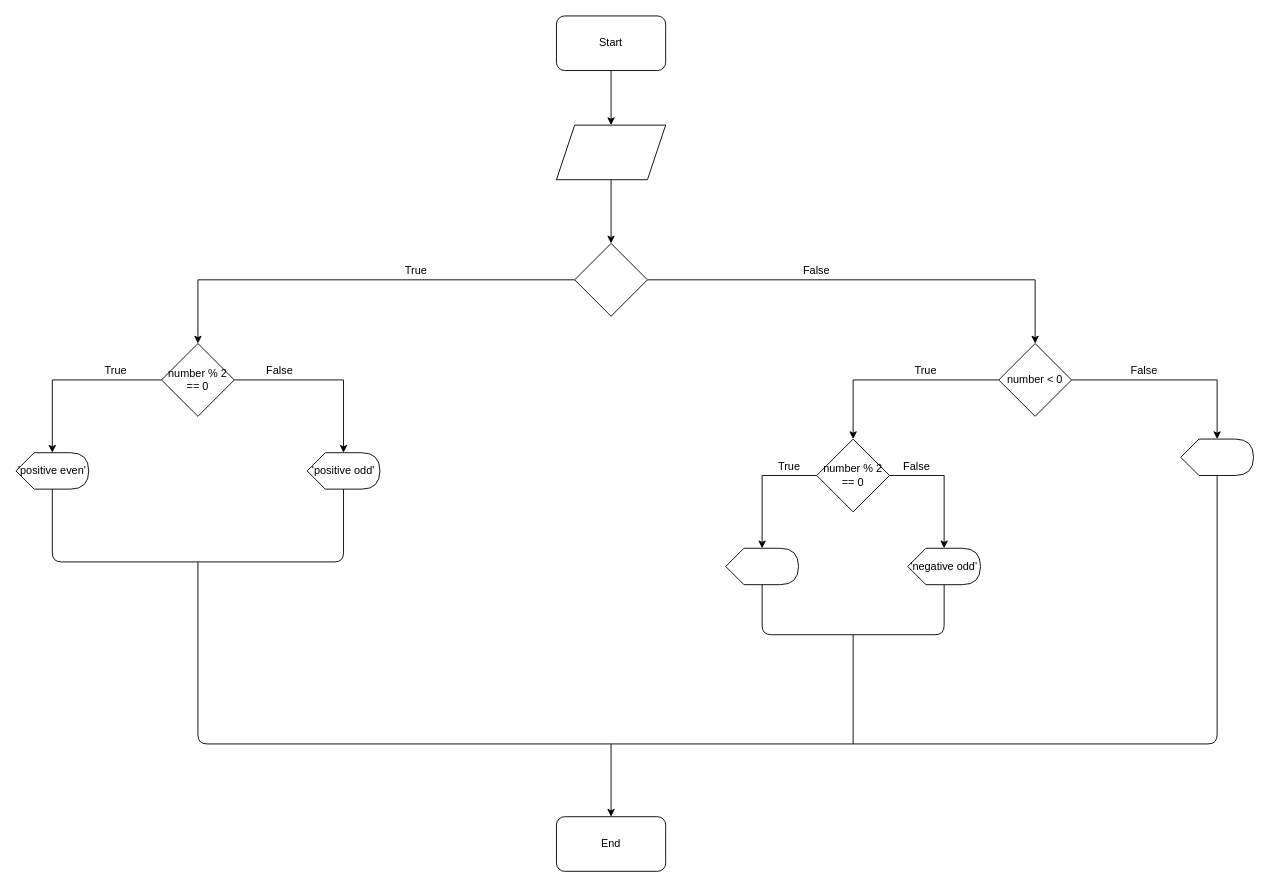
Some shapes in this 1269 by 887 pixel diagram are drawn without their labels. Here are the shapes that lost their labels. From the top down, the centre of each, then its label:
the point at 611,152: number
the point at 610,279: number > 0
the point at 1217,456: 'Zero'
the point at 762,566: 'negative even'
